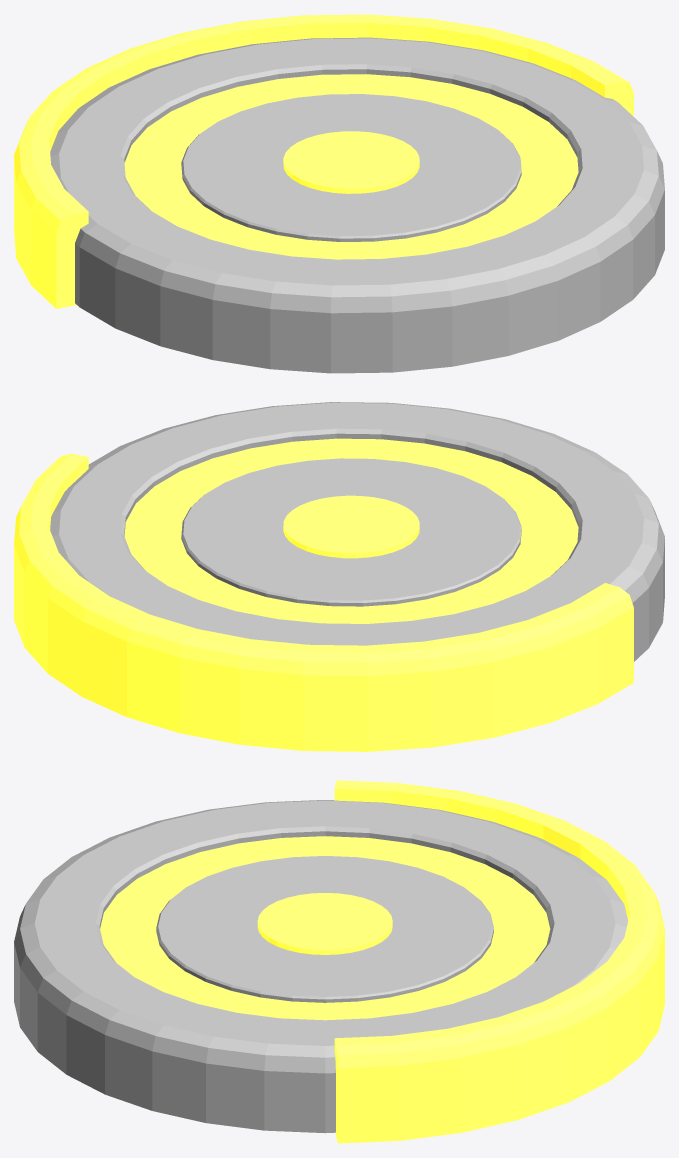
Rendered from robot.fbx.
The picture shows the model from 3 angles, top to bottom: view 1: azimuth 30°, elevation 25°; view 2: azimuth 150°, elevation 25°; view 3: azimuth 270°, elevation 25°; orthographic projection.
Visible parts, largest first — view 1: Cylinder; view 2: Cylinder; view 3: Cylinder.
Boxes of the visible parts, x1,y1,x2,y2 form: Cylinder: [14, 14, 664, 373]; Cylinder: [14, 402, 664, 751]; Cylinder: [14, 780, 664, 1143].
Bounding box in the file's own units: 149 × 146 × 22.49.
